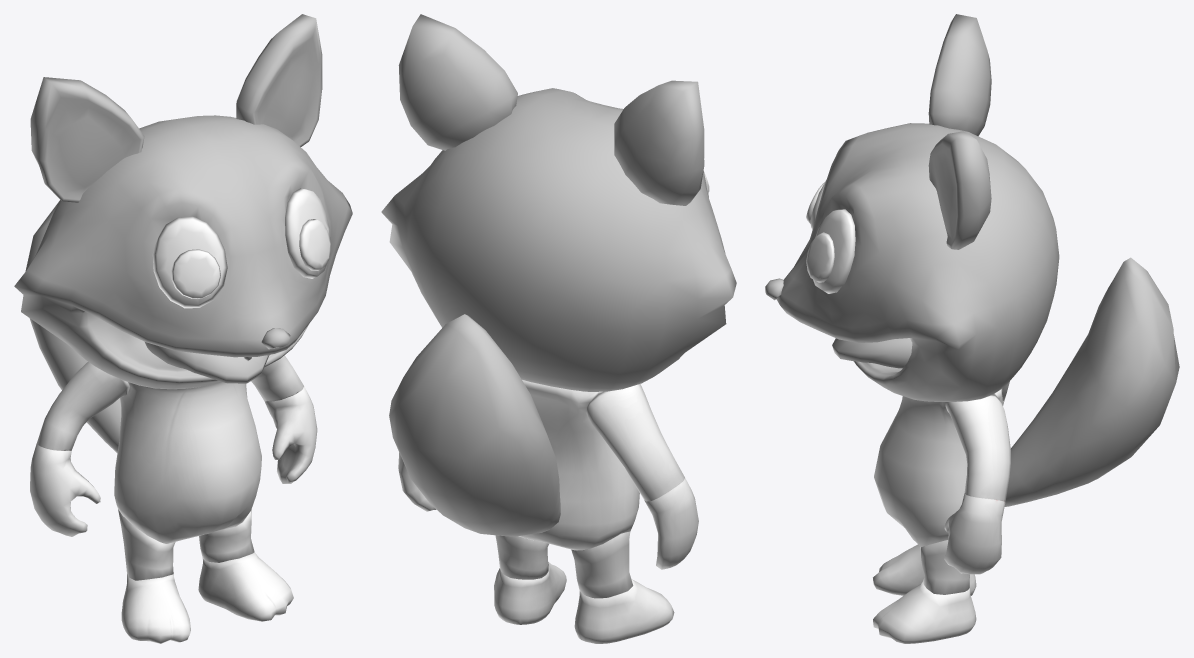
Rendered from SM_Character_Fox.FBX.
The picture shows the model from 3 angles, left to right: view 1: azimuth 30°, elevation 25°; view 2: azimuth 150°, elevation 25°; view 3: azimuth 270°, elevation 25°; orthographic projection. The views are drawn at different scales.
Parts seen in each view (by area): view 1: Fox, NEWBody, Eyes; view 2: Fox, NEWBody; view 3: Fox, NEWBody, Eyes.
Part boxes in pixels (bbox=[...]): Fox: bbox=[14, 14, 352, 452]; NEWBody: bbox=[30, 355, 317, 643]; Eyes: bbox=[152, 188, 330, 308]; Fox: bbox=[381, 14, 736, 536]; NEWBody: bbox=[398, 380, 698, 643]; Fox: bbox=[765, 14, 1179, 506]; NEWBody: bbox=[873, 381, 1010, 643]; Eyes: bbox=[806, 180, 855, 293].
Bounding box in the file's own units: 0.6526 × 1.03 × 0.7225.
